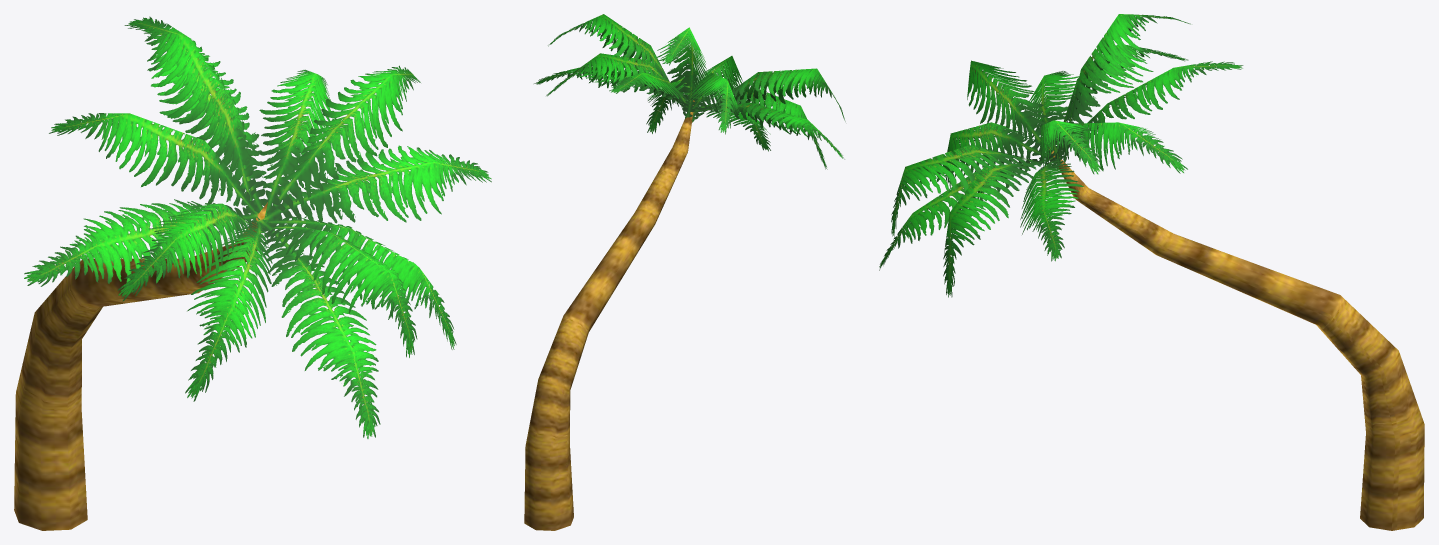
File: palm05.obj
3 views of the same model, side by side, from view 1: azimuth 30°, elevation 25°; view 2: azimuth 150°, elevation 25°; view 3: azimuth 270°, elevation 25° (orthographic). The views are drawn at different scales.
Parts seen in each view (by area): view 1: Duplicate09, Duplicate06, Cylinder01, Duplicate05, Duplicate04, Triangles; view 2: Cylinder01, Duplicate09, Duplicate06, Duplicate05, Triangles, Duplicate04; view 3: Cylinder01, Duplicate09, Duplicate06, Duplicate05, Duplicate04, Triangles.
Part boxes in pixels (x1,y1,x2,y2): Duplicate09: [117, 16, 420, 357]; Duplicate06: [49, 69, 456, 401]; Cylinder01: [14, 202, 267, 530]; Duplicate05: [137, 17, 380, 438]; Duplicate04: [263, 145, 491, 223]; Triangles: [24, 199, 259, 286]; Cylinder01: [524, 100, 694, 530]; Duplicate09: [548, 14, 845, 122]; Duplicate06: [546, 53, 827, 169]; Duplicate05: [609, 72, 770, 151]; Triangles: [694, 102, 844, 159]; Duplicate04: [534, 66, 681, 104]; Cylinder01: [1048, 147, 1424, 530]; Duplicate09: [891, 14, 1190, 238]; Duplicate06: [943, 44, 1188, 297]; Duplicate05: [879, 61, 1243, 270]; Duplicate04: [1020, 158, 1083, 261]; Triangles: [1024, 71, 1079, 154].
Bounding box in the file's own units: 70.29 × 87.28 × 88.49.
